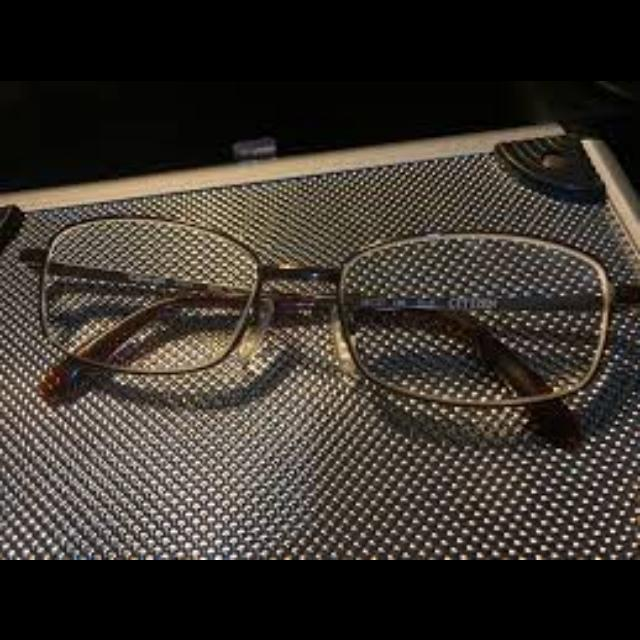glasses: (15, 213, 640, 447)
